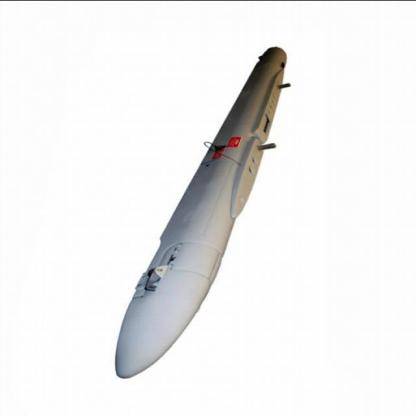MIL_TBM: (101, 35, 287, 386)
